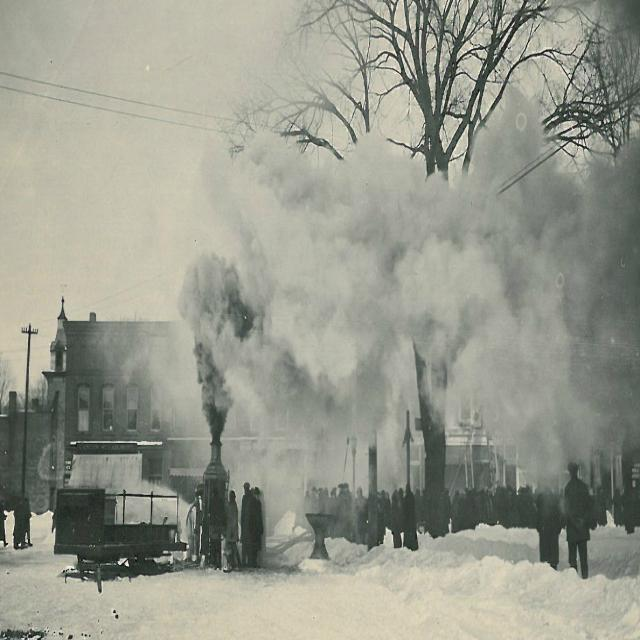Smoke: (176, 82, 640, 490)
